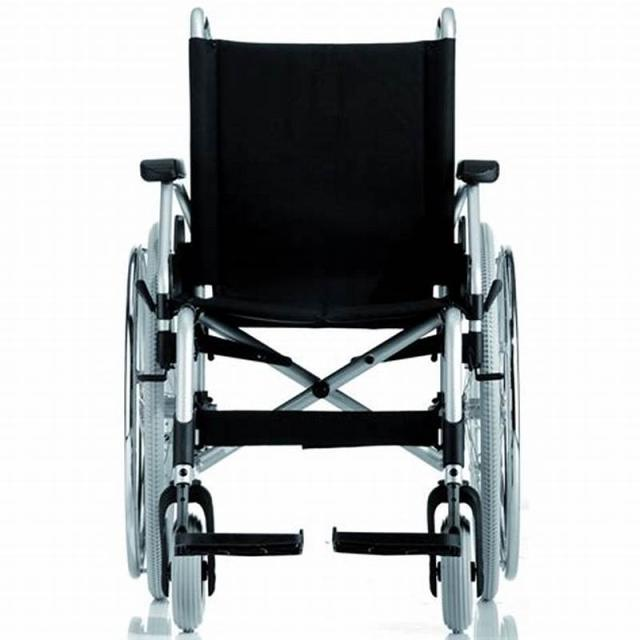wheelchairs: (117, 3, 524, 640)
